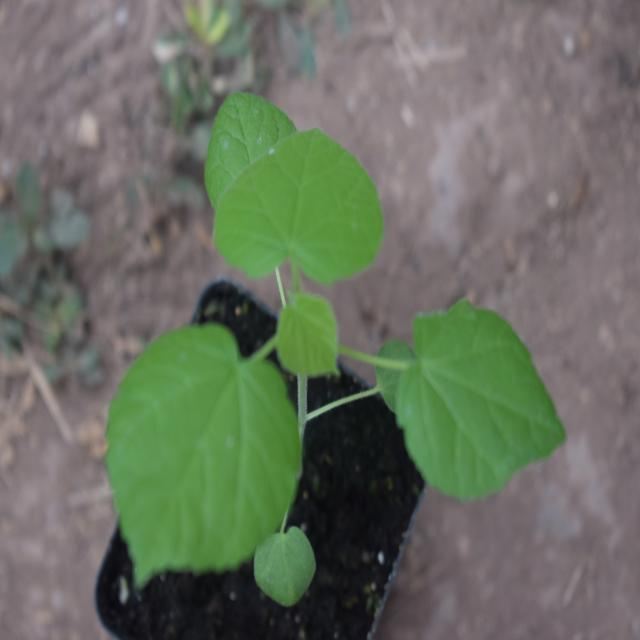abutilon theophrasti: (112, 85, 554, 598)
